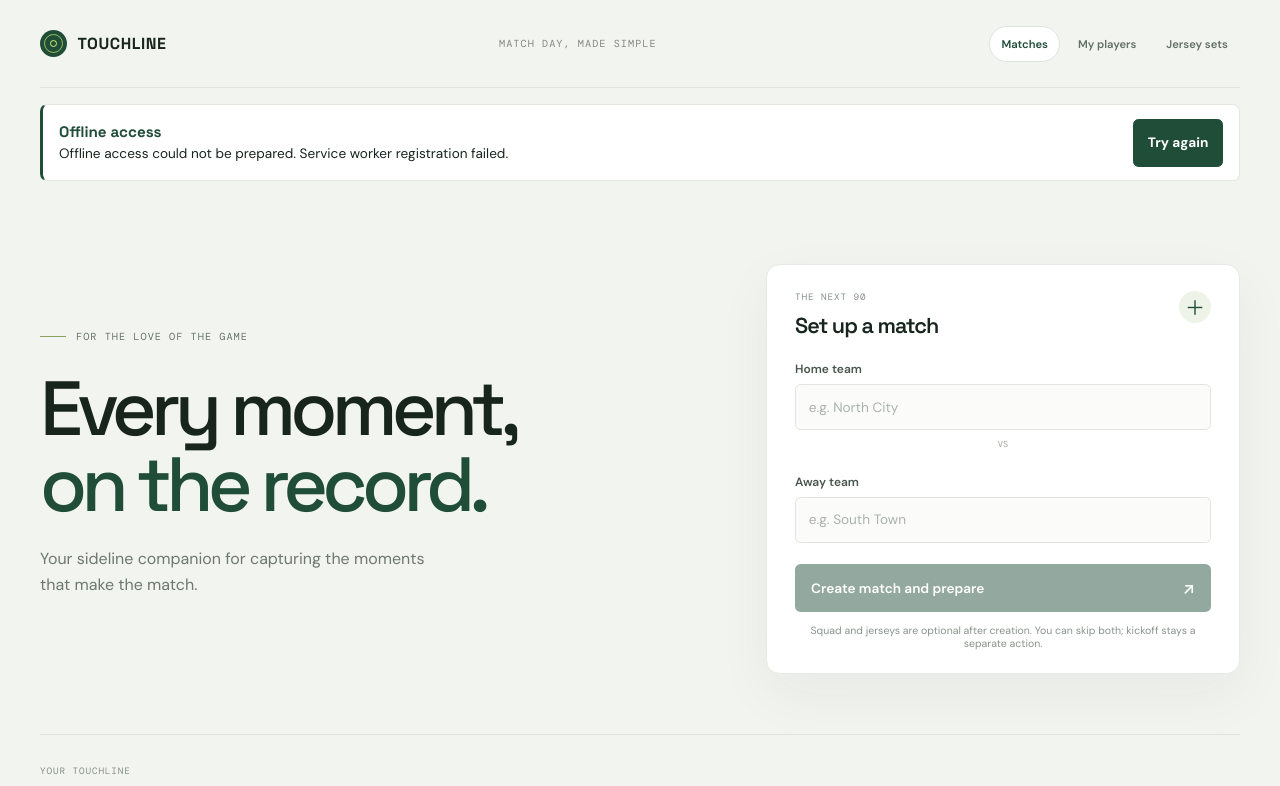
Scenario: App › keeps ordinary local workflows available when PWA registration fails
The image size is (1280, 786).
Expected: the form with class "new-match-card" is shown, [766,264,1240,674]
Type "North City" into the field with id "home-team" at (1003, 407), box [795,384,1211,430]
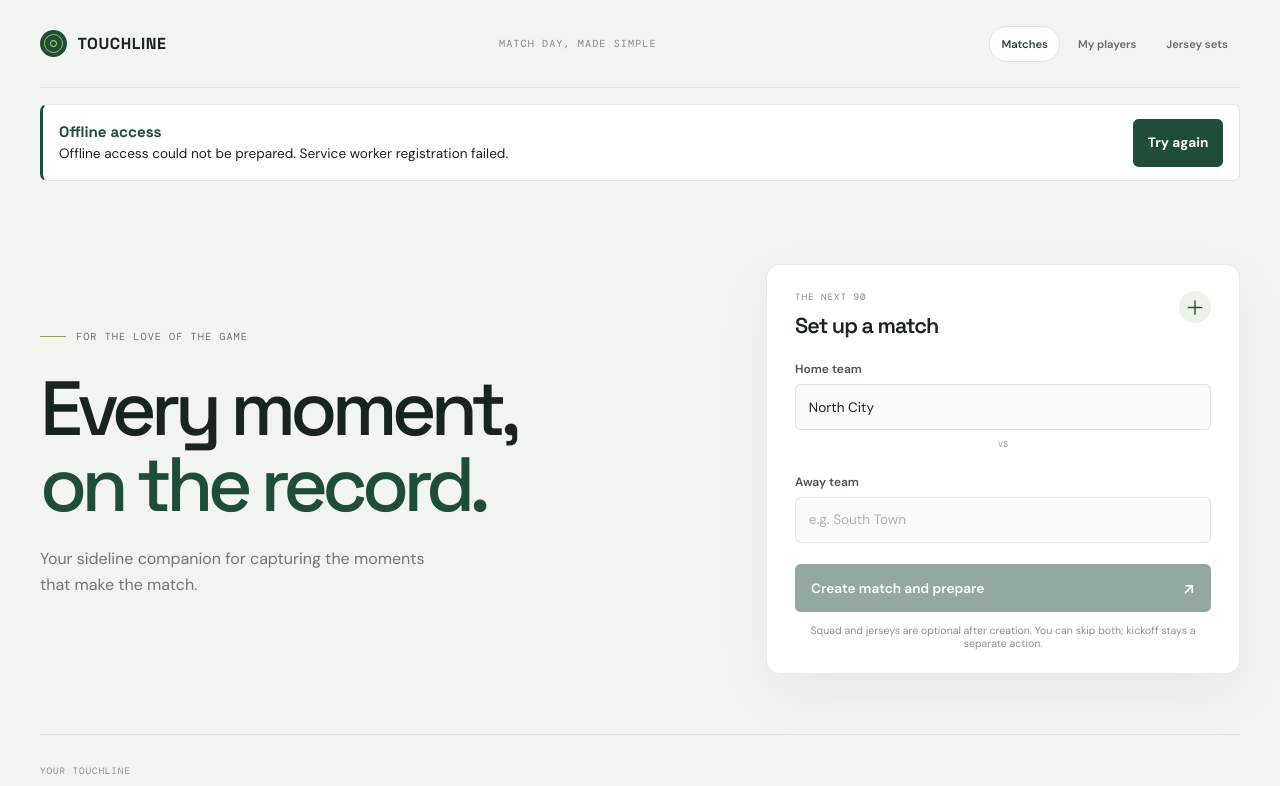
Type "South Town" into the field with id "away-team" at (1003, 520), box [795,497,1211,543]
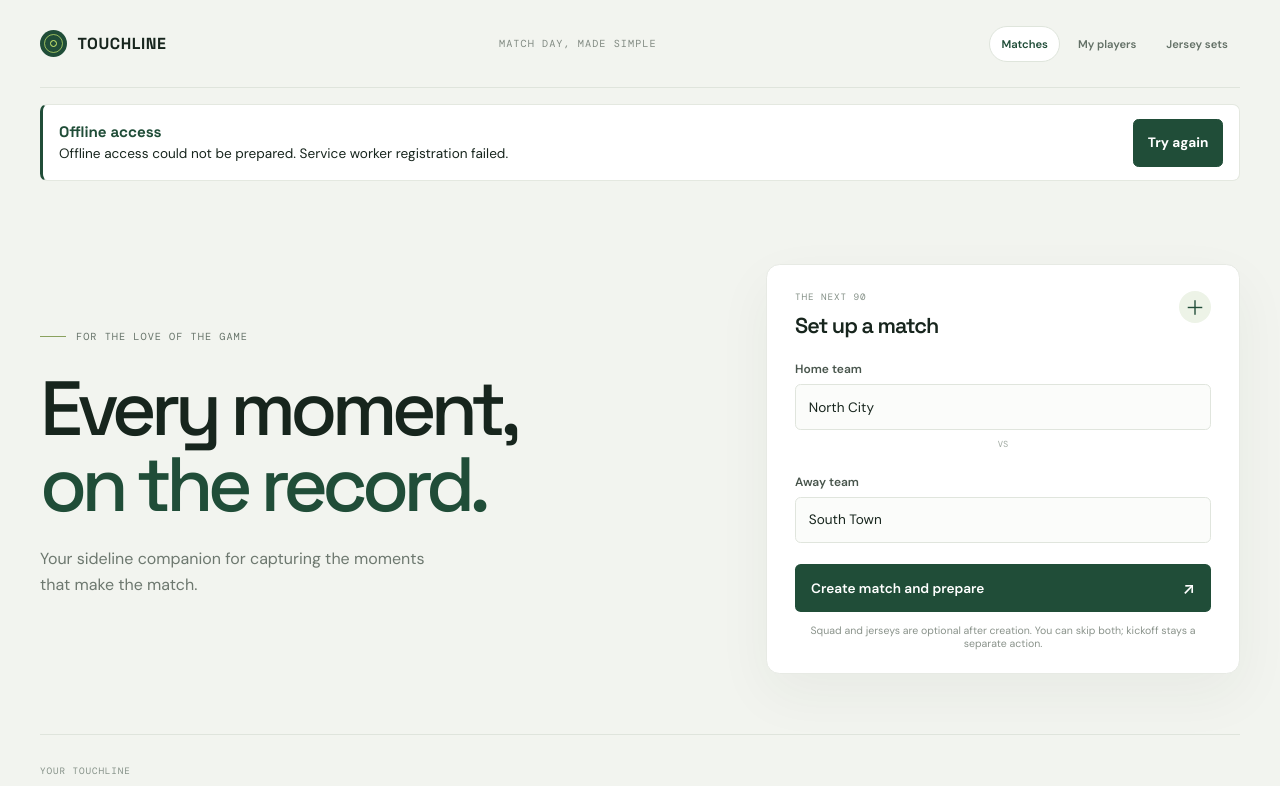
Submit the form, box [766,264,1240,674]
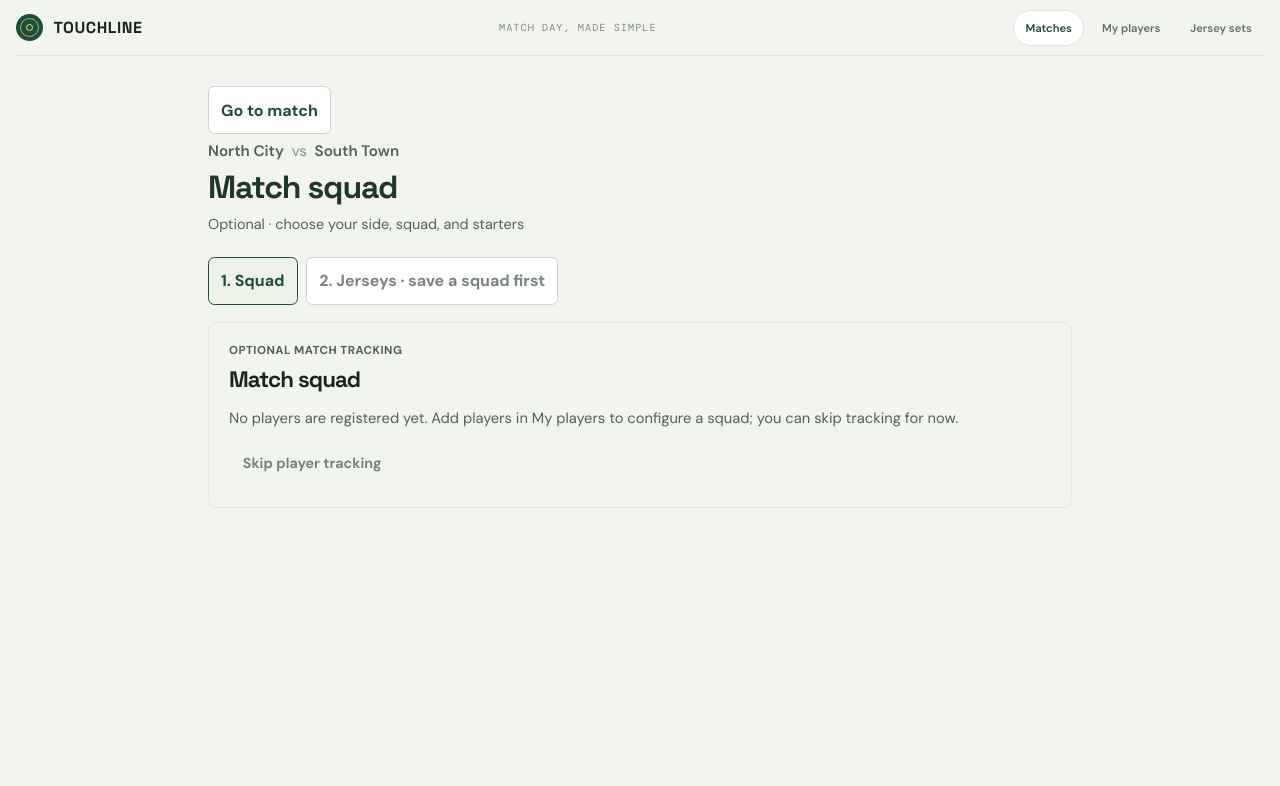
Result: the heading "Match squad" below "North City" is shown at [208,167,397,207]
Result: the text "Service worker registration failed." is gone
